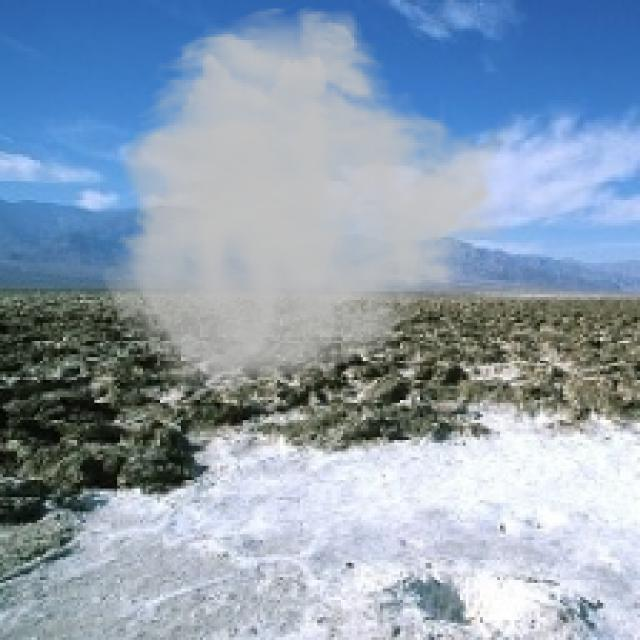smoke: (100, 3, 520, 397)
